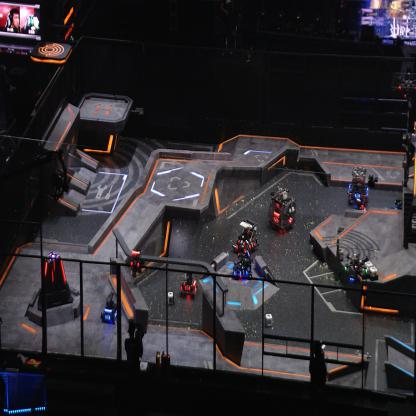car: (268, 186, 296, 235), (232, 218, 258, 256), (347, 166, 368, 206), (100, 290, 120, 324), (231, 249, 252, 280), (179, 268, 199, 299), (389, 197, 408, 222), (351, 196, 369, 220)
